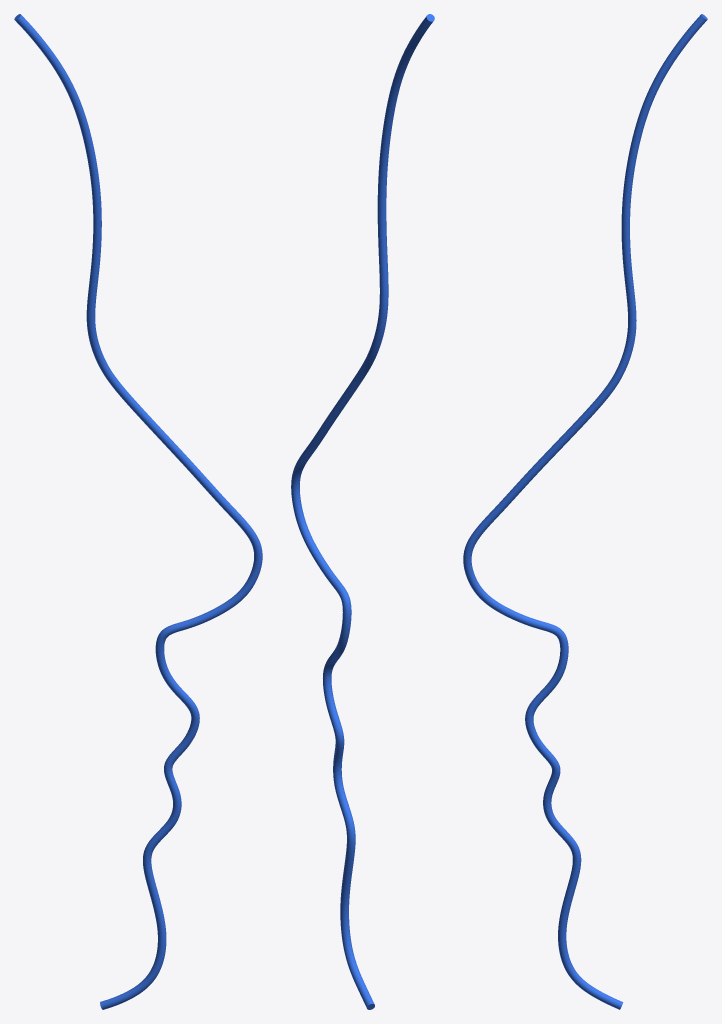
Rendered from faces31 - lineprofile.glb.
3 views of the same model, side by side, from view 1: azimuth 90°, elevation 25°; view 2: azimuth 210°, elevation 25°; view 3: azimuth 270°, elevation 25° (orthographic). The views are drawn at different scales.
Parts seen in each view (by area): view 1: Tube; view 2: Tube; view 3: Tube.
Boxes of the visible parts, left/top/right/bottom form: Tube: left=14, top=14, right=262, bottom=1009; Tube: left=291, top=14, right=434, bottom=1009; Tube: left=463, top=14, right=707, bottom=1009.
Bounding box in the file's own units: 0.0355 × 1.43 × 0.3198.
